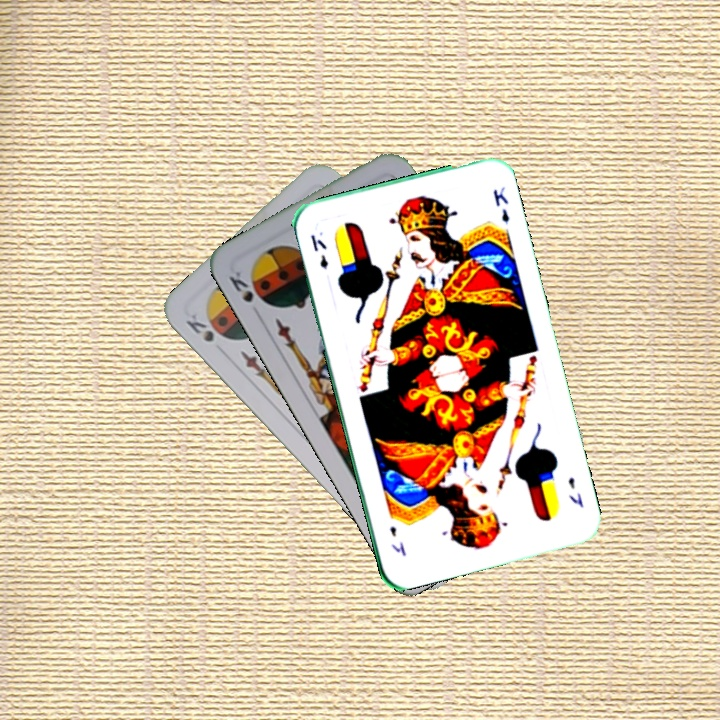EK: (306, 230, 331, 272), (564, 473, 586, 510)
SK: (181, 309, 217, 345), (225, 267, 256, 306)
